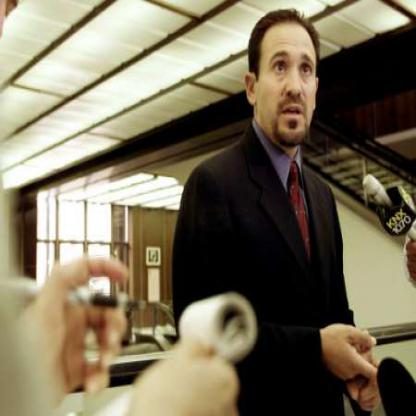face: (256, 16, 326, 146)
